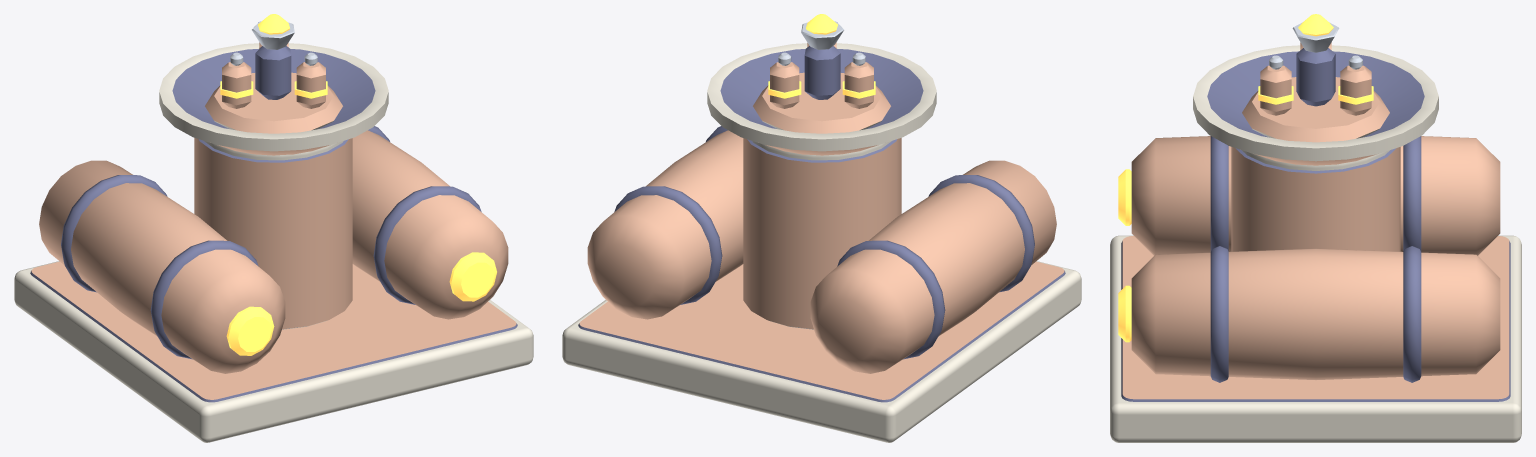
The model's file is R4X_BurnTrapDeployer.fbx.
The picture shows the model from 3 angles, left to right: view 1: azimuth 30°, elevation 25°; view 2: azimuth 150°, elevation 25°; view 3: azimuth 270°, elevation 25°; orthographic projection. The views are drawn at different scales.
Parts seen in each view (by area): view 1: R4X_BurnTrapDeployer_Body, R4X_BurnTrapDeployer_Payload; view 2: R4X_BurnTrapDeployer_Body, R4X_BurnTrapDeployer_Payload; view 3: R4X_BurnTrapDeployer_Body, R4X_BurnTrapDeployer_Payload.
Part boxes in pixels (x1,y1,x2,y2): R4X_BurnTrapDeployer_Body: (14,43,533,442); R4X_BurnTrapDeployer_Payload: (205,14,342,133); R4X_BurnTrapDeployer_Body: (562,43,1081,442); R4X_BurnTrapDeployer_Payload: (753,14,890,133); R4X_BurnTrapDeployer_Body: (1110,45,1521,442); R4X_BurnTrapDeployer_Payload: (1242,14,1389,142).
Bounding box in the file's own units: 0.515 × 0.476 × 0.514.
